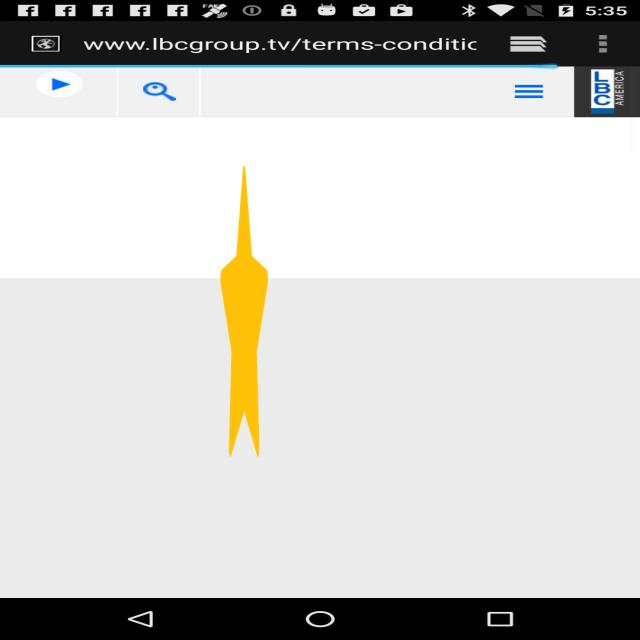forced continuity: (220, 165, 268, 457)
